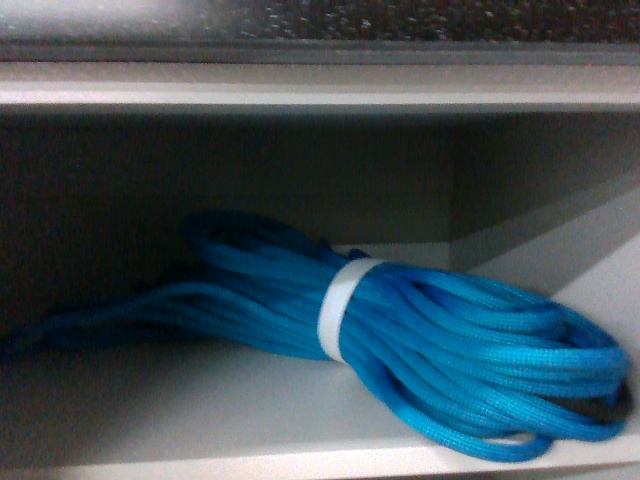rope: (9, 206, 634, 462)
